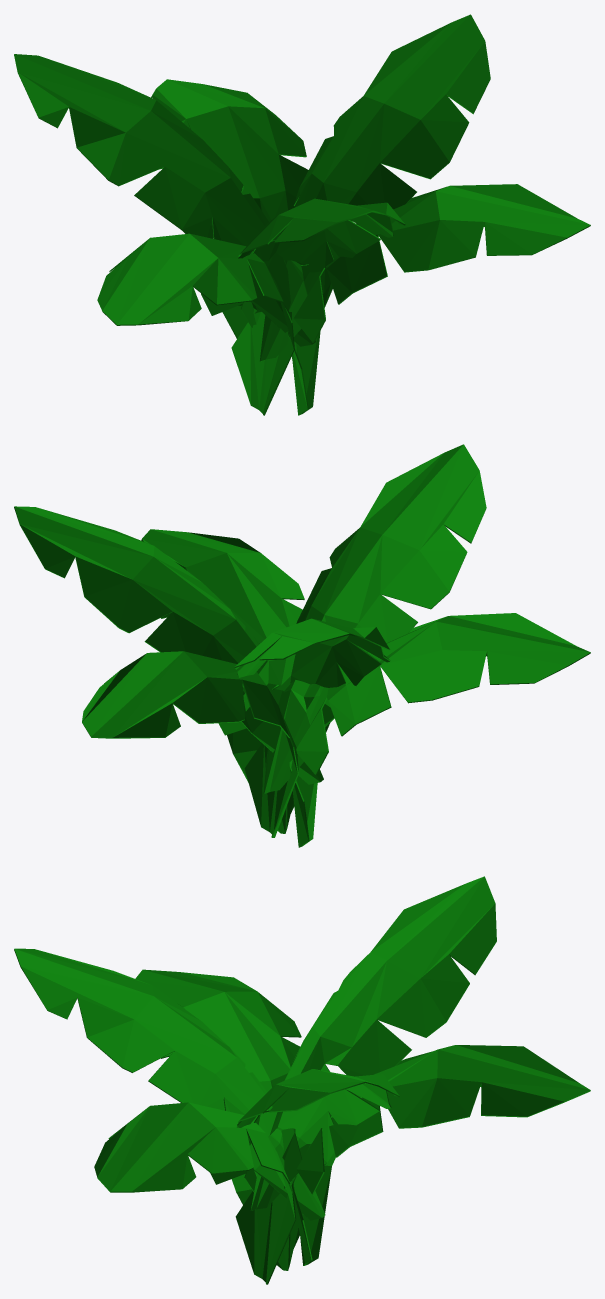
File: bush.fbx
3 views of the same model, one above another, from view 1: azimuth 30°, elevation 25°; view 2: azimuth 150°, elevation 25°; view 3: azimuth 270°, elevation 25° (orthographic).
Visible parts, largest first — view 1: Plane228; view 2: Plane228; view 3: Plane228.
Part boxes in pixels (x1=…): Plane228: x1=14, y1=14, x2=590, y2=415; Plane228: x1=14, y1=444, x2=590, y2=847; Plane228: x1=14, y1=876, x2=590, y2=1284.
Size of the model in its own units: 21.12 by 14.01 by 22.76.
